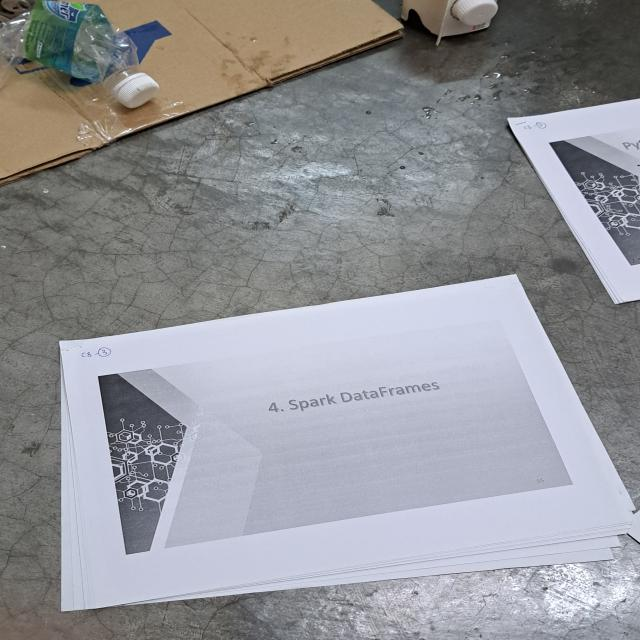cardboard: (0, 0, 407, 186)
drink carton: (399, 0, 496, 46)
paper: (54, 273, 640, 616), (509, 91, 640, 306)
plastic bottle: (0, 0, 139, 89)
plastic bottle cap: (117, 75, 160, 108), (450, 0, 498, 25)
